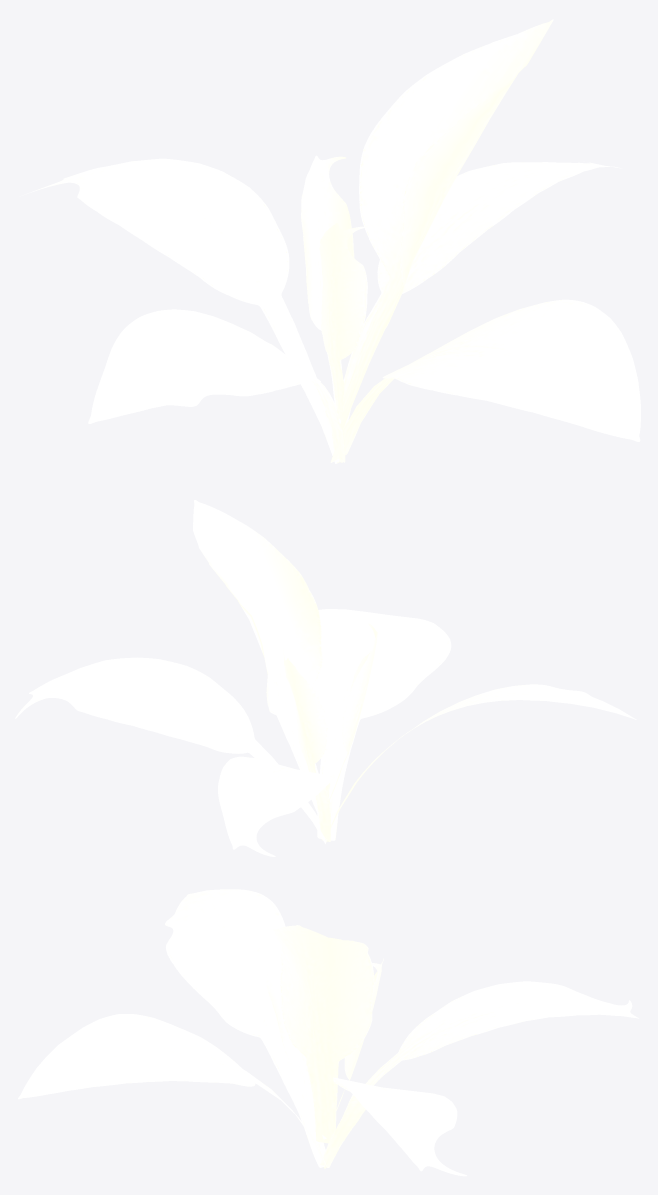
The picture shows the model from 3 angles, top to bottom: view 1: azimuth 30°, elevation 25°; view 2: azimuth 150°, elevation 25°; view 3: azimuth 270°, elevation 25°; orthographic projection. The views are drawn at different scales.
Visible parts, largest first — view 1: SM_DR_Sm_Plant_02_LOD0; view 2: SM_DR_Sm_Plant_02_LOD0; view 3: SM_DR_Sm_Plant_02_LOD0.
Part boxes in pixels (<box>): SM_DR_Sm_Plant_02_LOD0: <box>20,19,640,463</box>; SM_DR_Sm_Plant_02_LOD0: <box>15,500,636,856</box>; SM_DR_Sm_Plant_02_LOD0: <box>18,889,638,1176</box>.
Size of the model in its own units: 1.24 by 0.7015 by 1.24.
1 material, 1 textured.
